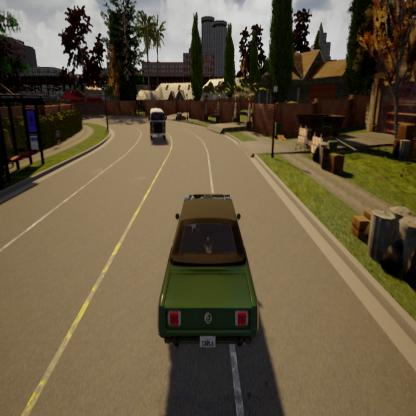Cars: (157, 180, 262, 366), (146, 91, 172, 160)
